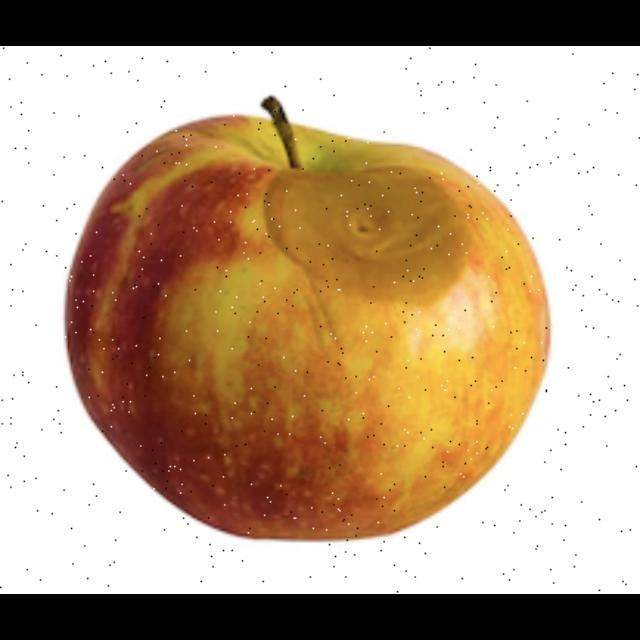Apel Tidak Segar: (46, 104, 568, 562)
